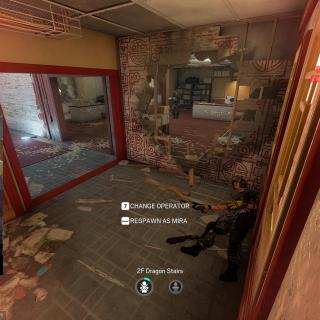Character: (179, 173, 262, 284), (168, 90, 181, 120)
Head: (231, 175, 248, 192), (173, 90, 177, 96)
